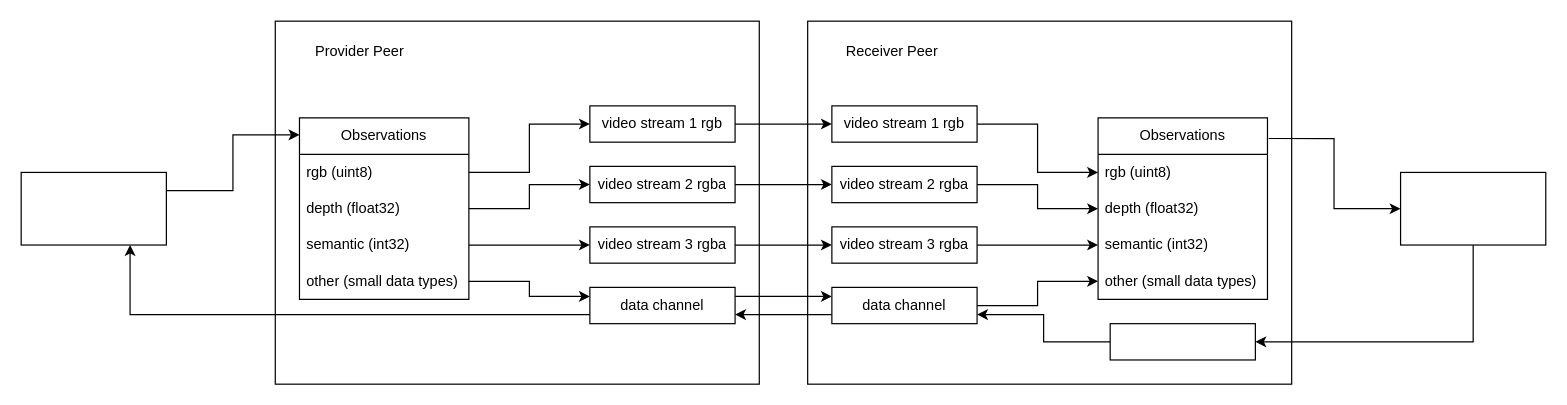
This 1567x405 diagram has some shape labels left out. Each missing label, with the centre of its shape:
action (dict): point (1182, 341)
Habitat: point (93, 208)
SG-Nav (Agent): point (1472, 208)
